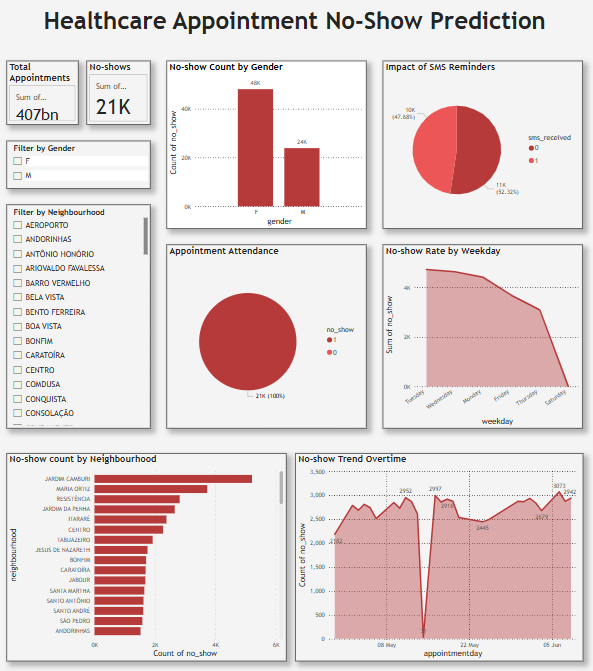

This screenshot's page, from the dashboard's own definition file:
{"tool":"powerbi","page":{"name":"Page 1","canvas":[1200,1360],"ordinal":0},"visuals":[{"type":"columnChart","title":"No-show Count by Gender","fields":{"Category":["cleaned_appointments_for_powerbi.gender"],"Y":["CountNonNull(cleaned_appointments_for_powerbi.no_show)"]},"box":[336,128,400,336],"z":0},{"type":"pieChart","title":"Appointment Attendance","fields":{"Y":["Sum(cleaned_appointments_for_powerbi.no_show)"],"Category":["cleaned_appointments_for_powerbi.no_show"]},"box":[336,496,400,368],"z":1000},{"type":"clusteredBarChart","title":"No-show count by Neighbourhood","fields":{"Y":["CountNonNull(cleaned_appointments_for_powerbi.no_show)"],"Category":["cleaned_appointments_for_powerbi.neighbourhood"]},"box":[16,912,560,416],"z":2000},{"type":"slicer","fields":{"Values":["cleaned_appointments_for_powerbi.gender"]},"box":[16,288,288,96],"z":3000},{"type":"lineChart","title":"No-show Trend Overtime","fields":{"Y":["CountNonNull(cleaned_appointments_for_powerbi.no_show)"],"Category":["cleaned_appointments_for_powerbi.appointmentday"]},"box":[592,912,576,416],"z":4000},{"type":"slicer","fields":{"Values":["cleaned_appointments_for_powerbi.neighbourhood"]},"box":[16,416,288,448],"z":5000},{"type":"textbox","box":[80,16,1120,80],"z":6000},{"type":"cardVisual","title":"Total Appointments","fields":{"Data":["Sum(cleaned_appointments_for_powerbi.appointmentid)"]},"box":[16,128,144,128],"z":7000},{"type":"cardVisual","title":"No-shows","fields":{"Data":["Sum(cleaned_appointments_for_powerbi.no_show)"]},"box":[176,128,128,128],"z":8000},{"type":"lineChart","title":"No-show Rate by Weekday","fields":{"Category":["cleaned_appointments_for_powerbi.weekday"],"Y":["Sum(cleaned_appointments_for_powerbi.no_show)"]},"box":[768,496,400,368],"z":9000},{"type":"pieChart","title":"Impact of SMS Reminders","fields":{"Y":["Sum(cleaned_appointments_for_powerbi.no_show)"],"Category":["cleaned_appointments_for_powerbi.sms_received"]},"box":[768,128,400,336],"z":10000}]}

Visuals, with their boxes in screenshot pixels (x1, y1, x2, y2), scaled from the page's 1200x1360 canvas onto the 593x671 screenshot:
"No-show Count by Gender" columnChart: 166,63,364,229
"Appointment Attendance" pieChart: 166,245,364,426
"No-show count by Neighbourhood" clusteredBarChart: 8,450,285,655
slicer - cleaned_appointments_for_powerbi.gender: 8,142,150,189
"No-show Trend Overtime" lineChart: 293,450,577,655
slicer - cleaned_appointments_for_powerbi.neighbourhood: 8,205,150,426
textbox: 40,8,592,47
"Total Appointments" cardVisual: 8,63,79,126
"No-shows" cardVisual: 87,63,150,126
"No-show Rate by Weekday" lineChart: 380,245,577,426
"Impact of SMS Reminders" pieChart: 380,63,577,229
